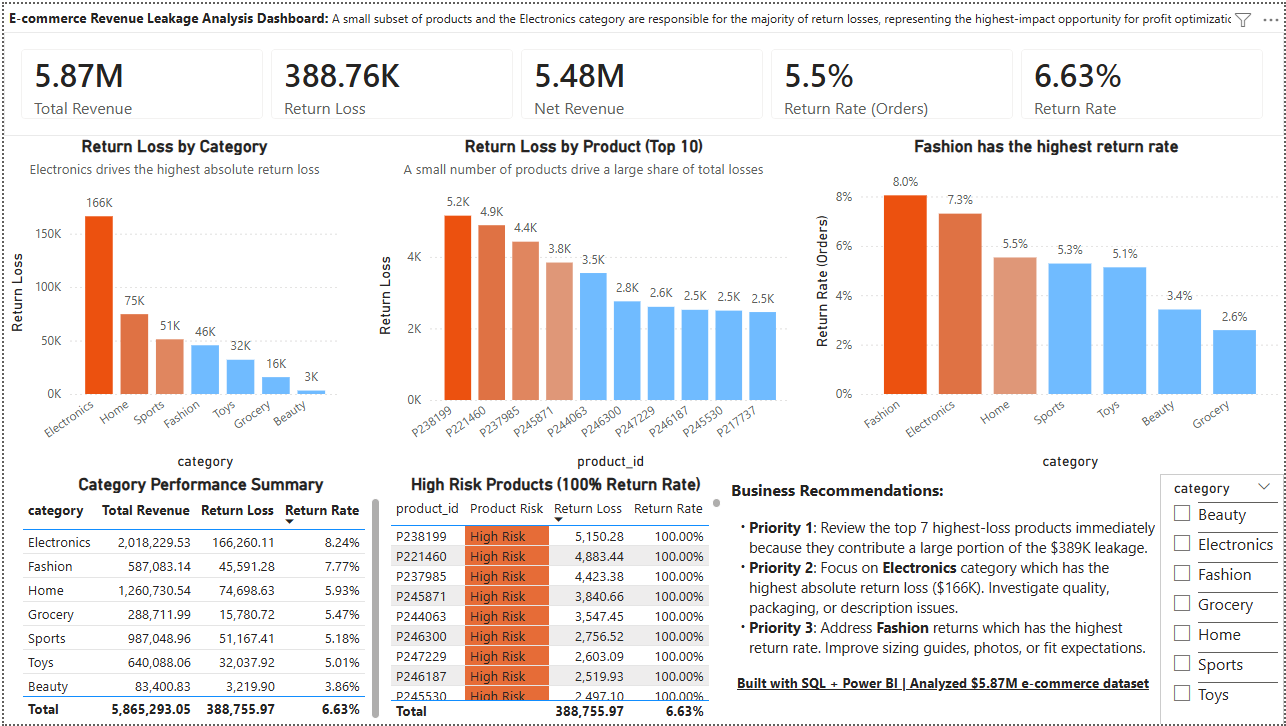

This screenshot's page, from the dashboard's own definition file:
{"tool":"powerbi","page":{"name":"Executive Summary","canvas":[1280,720],"ordinal":0},"visuals":[{"type":"clusteredColumnChart","title":"Return Loss by Category","fields":{"Category":["products.category"],"Y":["orders.Return Loss"]},"box":[0,131.8,340.9,337.8],"z":5000},{"type":"tableEx","title":"Category Performance Summary","fields":{"Values":["products.category","orders.Total Revenue","orders.Return Loss","orders.Return Rate"]},"box":[12.5,469.5,368.1,251],"z":6000},{"type":"clusteredColumnChart","title":"Fashion has the highest return rate","fields":{"Category":["products.category"],"Y":["orders.Return Rate (Orders)"]},"box":[805.2,131.8,474.8,337.8],"z":7000},{"type":"clusteredColumnChart","title":"Return Loss by Product (Top 10)","fields":{"Category":["products.product_id"],"Y":["orders.Return Loss"]},"box":[368.1,131.8,422.5,337.8],"z":8000},{"type":"textbox","box":[0,0,1280,93.1],"z":10000},{"type":"tableEx","title":"High Risk Products (100% Return Rate)","fields":{"Values":["products.product_id","orders.Product Risk","orders.Return Loss","orders.Return Rate"]},"box":[380.7,469.5,340.9,251],"z":11000},{"type":"slicer","fields":{"Values":["products.category"]},"box":[1155.6,469.5,124.4,251],"z":12000},{"type":"cardVisual","fields":{"Data":["orders.Total Revenue","orders.Return Loss","orders.Net Revenue","orders.Return Rate (Orders)","orders.Return Rate"]},"box":[0,28.2,1280,103.5],"z":12001},{"type":"textbox","box":[721.6,469.5,434,251],"z":12002}]}

Visuals, with their boxes in screenshot pixels (x1, y1, x2, y2), scaled from the page's 1280x720 canvas onto the 1286x726 screenshot:
"Return Loss by Category" clusteredColumnChart: [x1=0, y1=133, x2=342, y2=474]
"Category Performance Summary" tableEx: [x1=13, y1=473, x2=382, y2=725]
"Fashion has the highest return rate" clusteredColumnChart: [x1=809, y1=133, x2=1285, y2=474]
"Return Loss by Product (Top 10)" clusteredColumnChart: [x1=370, y1=133, x2=794, y2=474]
textbox: [x1=0, y1=0, x2=1285, y2=94]
"High Risk Products (100% Return Rate)" tableEx: [x1=382, y1=473, x2=725, y2=725]
slicer - products.category: [x1=1161, y1=473, x2=1285, y2=725]
cardVisual - orders.Total Revenue x orders.Return Loss: [x1=0, y1=28, x2=1285, y2=133]
textbox: [x1=725, y1=473, x2=1161, y2=725]
